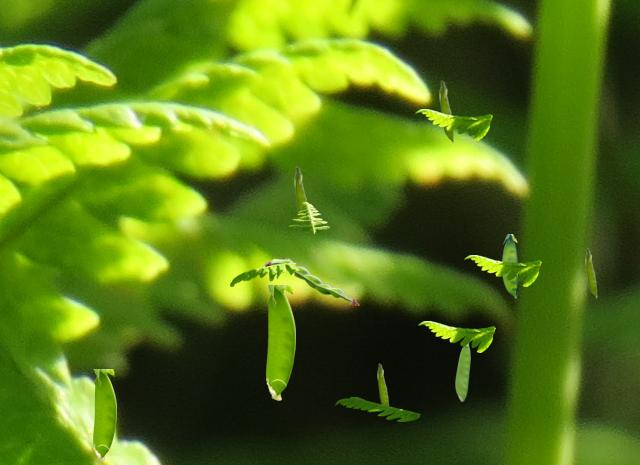pea: (263, 258, 358, 304), (266, 285, 294, 399), (93, 369, 115, 460), (502, 234, 516, 297), (439, 80, 453, 143), (455, 344, 469, 400), (294, 166, 307, 211), (585, 248, 596, 297), (377, 363, 388, 405)
